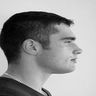ear: (16, 34, 43, 60)
